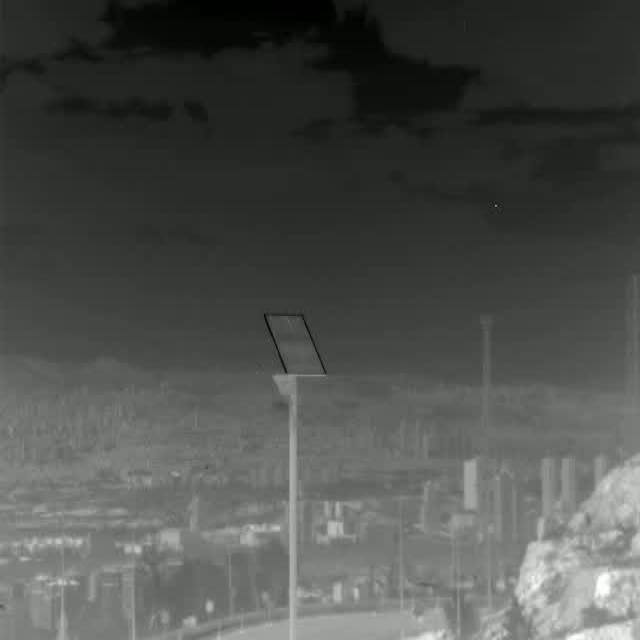Motorcycle: (410, 599, 425, 621)
